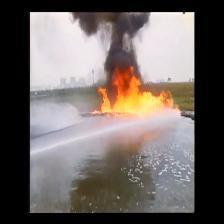fire: (94, 68, 176, 115)
